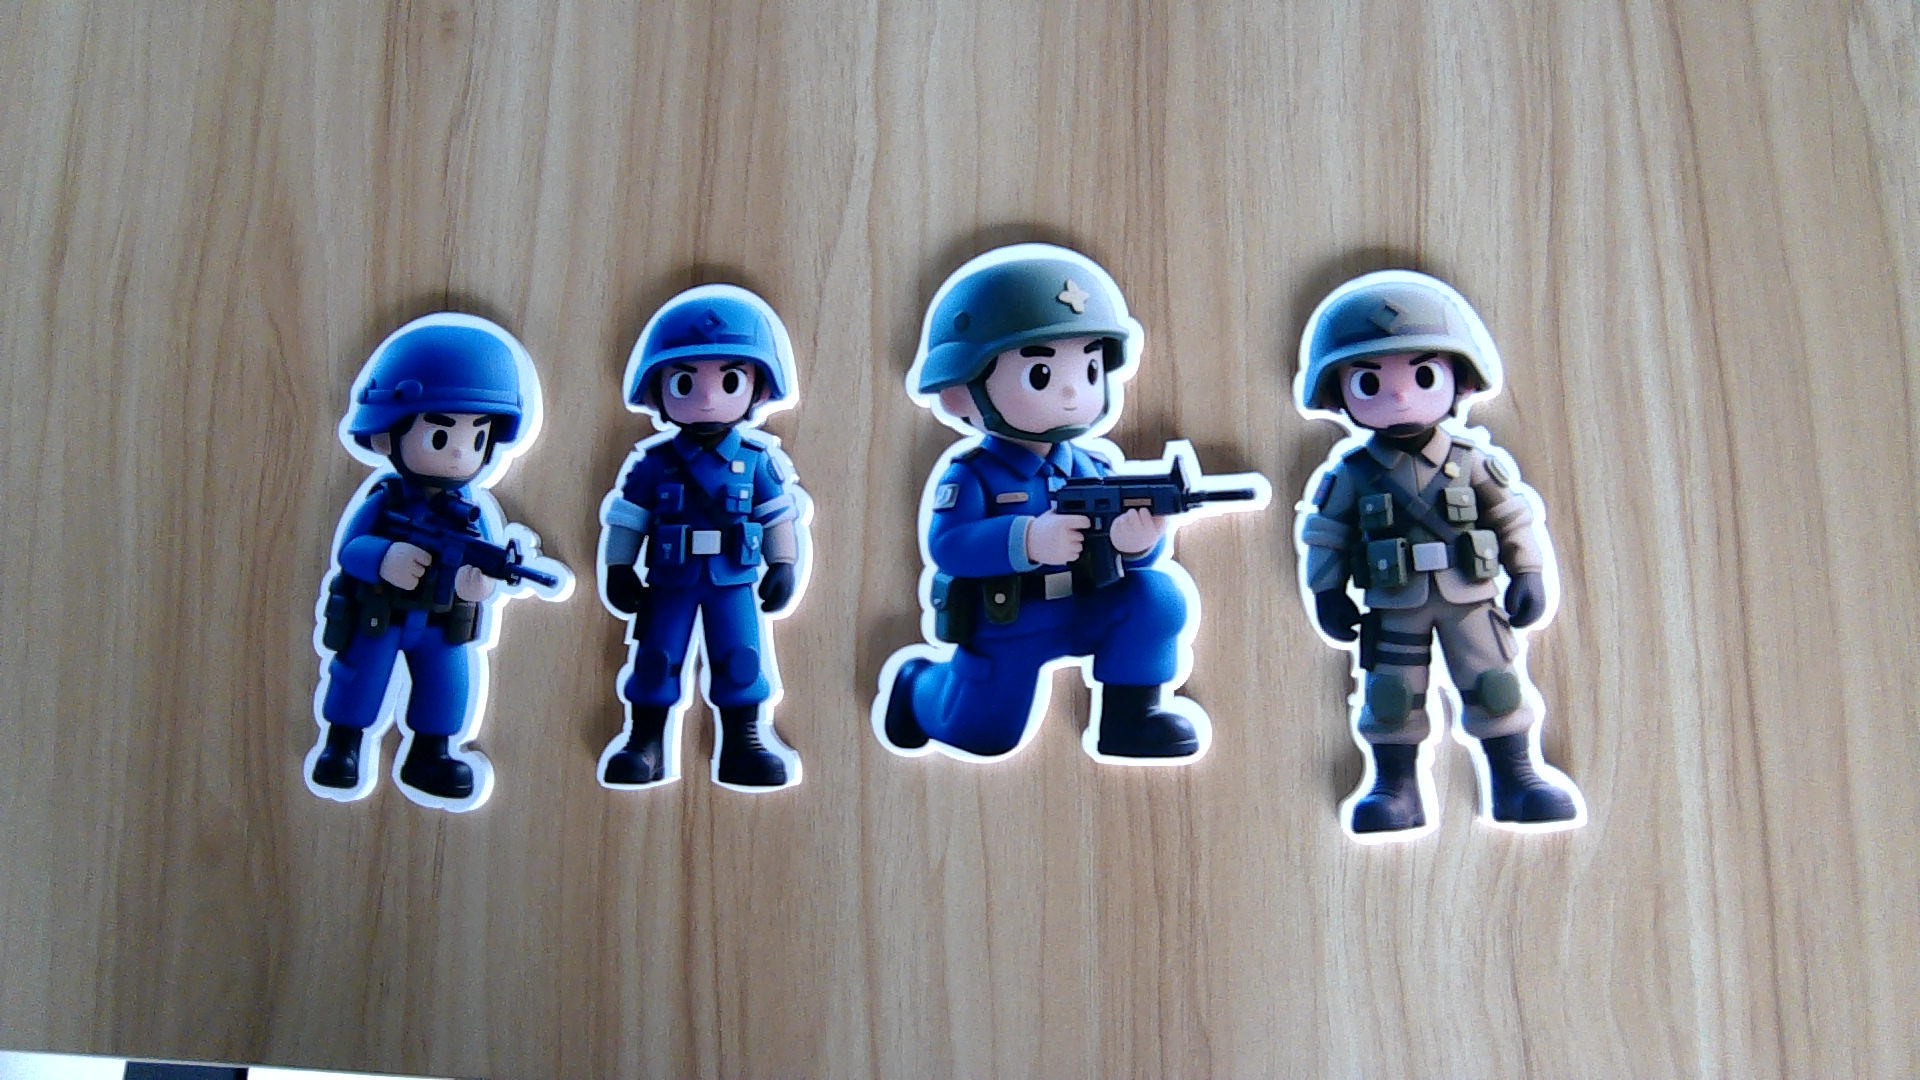友军: (1283, 419, 1601, 849)
敌人2: (866, 433, 1271, 783), (293, 473, 575, 816), (596, 433, 818, 793)
